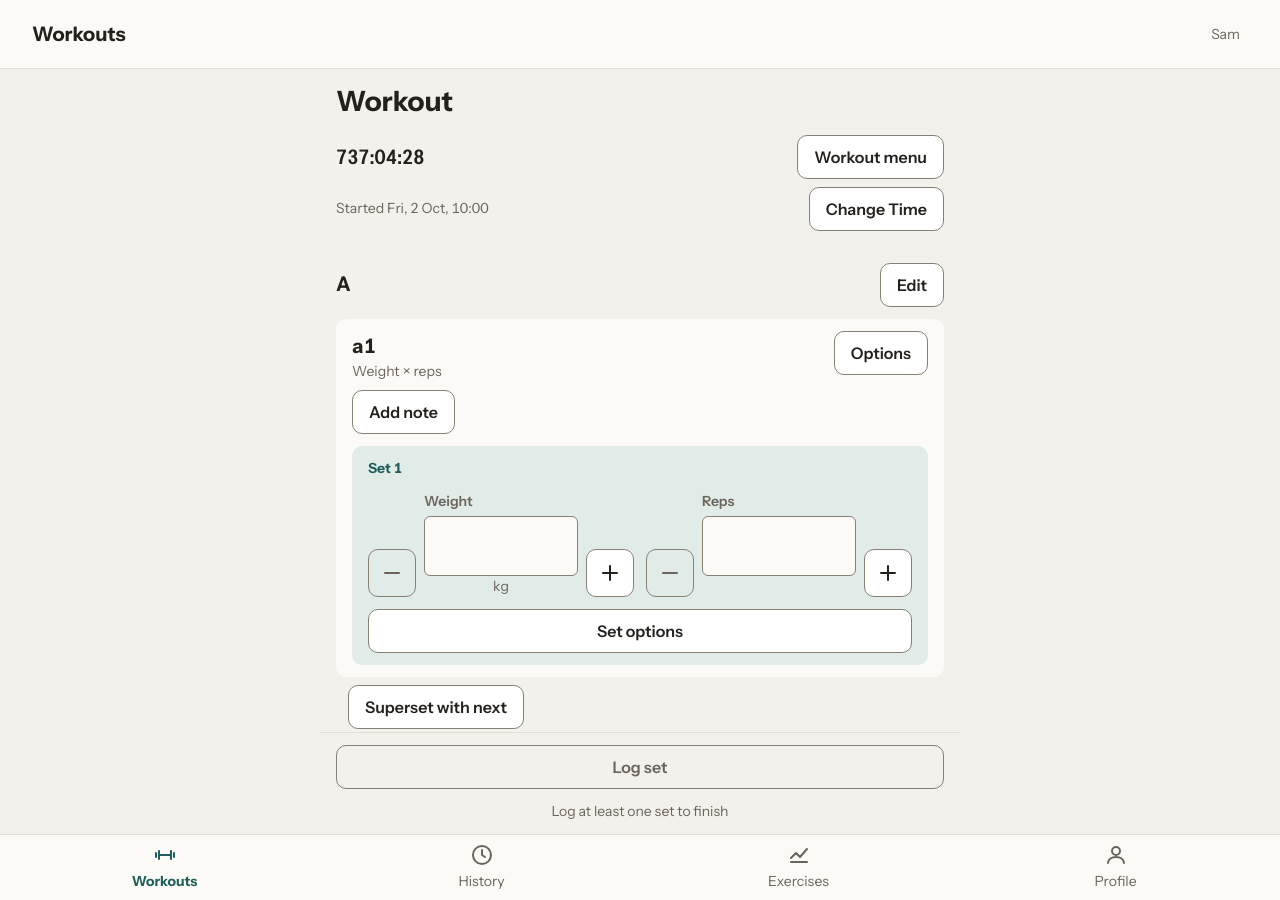
Scenario: 10.3 AC26 — moves and links stay inside a section › Move up / Move down are disabled (not hidden) at a segment's edges, with the reason in text
Expected: the heading "Workout" is shown, [336,84,453,118]
Click the button with aria-label "Options for " at (881, 353), box [834,331,928,375]
(page scrolled)
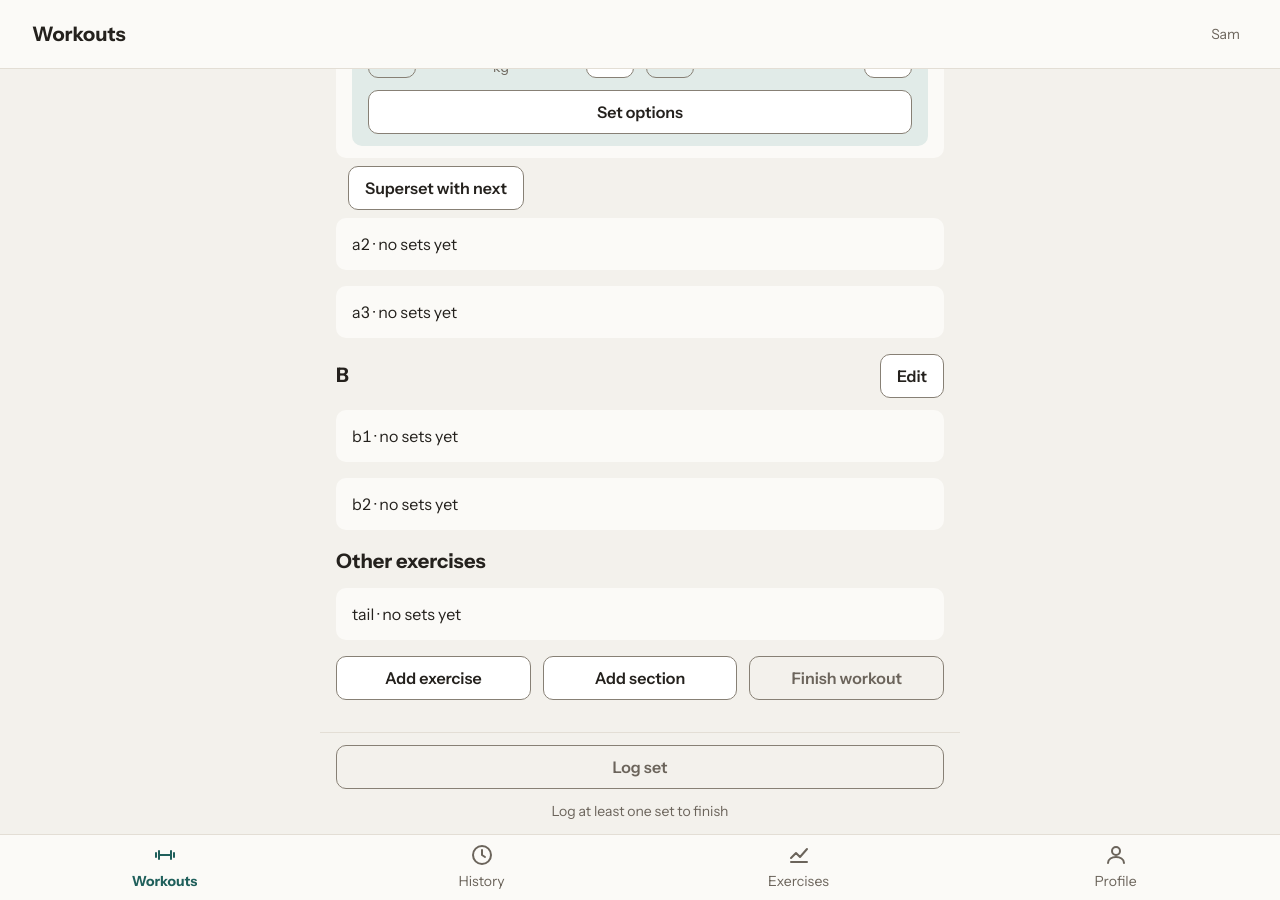
Click the button "b2 · no sets yet" at (405, 504), box [352,482,928,526]
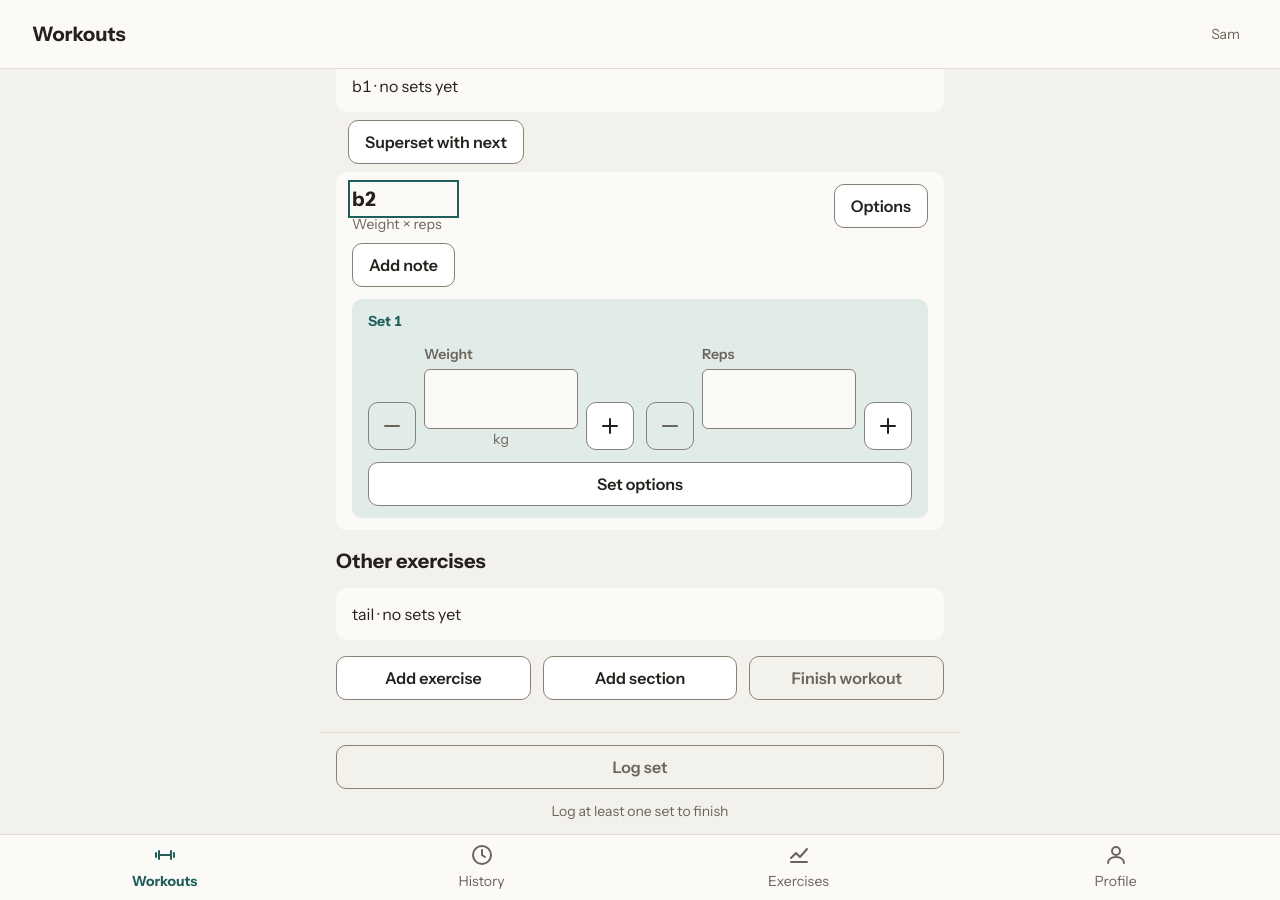
Click the button with aria-label "Options for " at (881, 206), box [834,184,928,228]
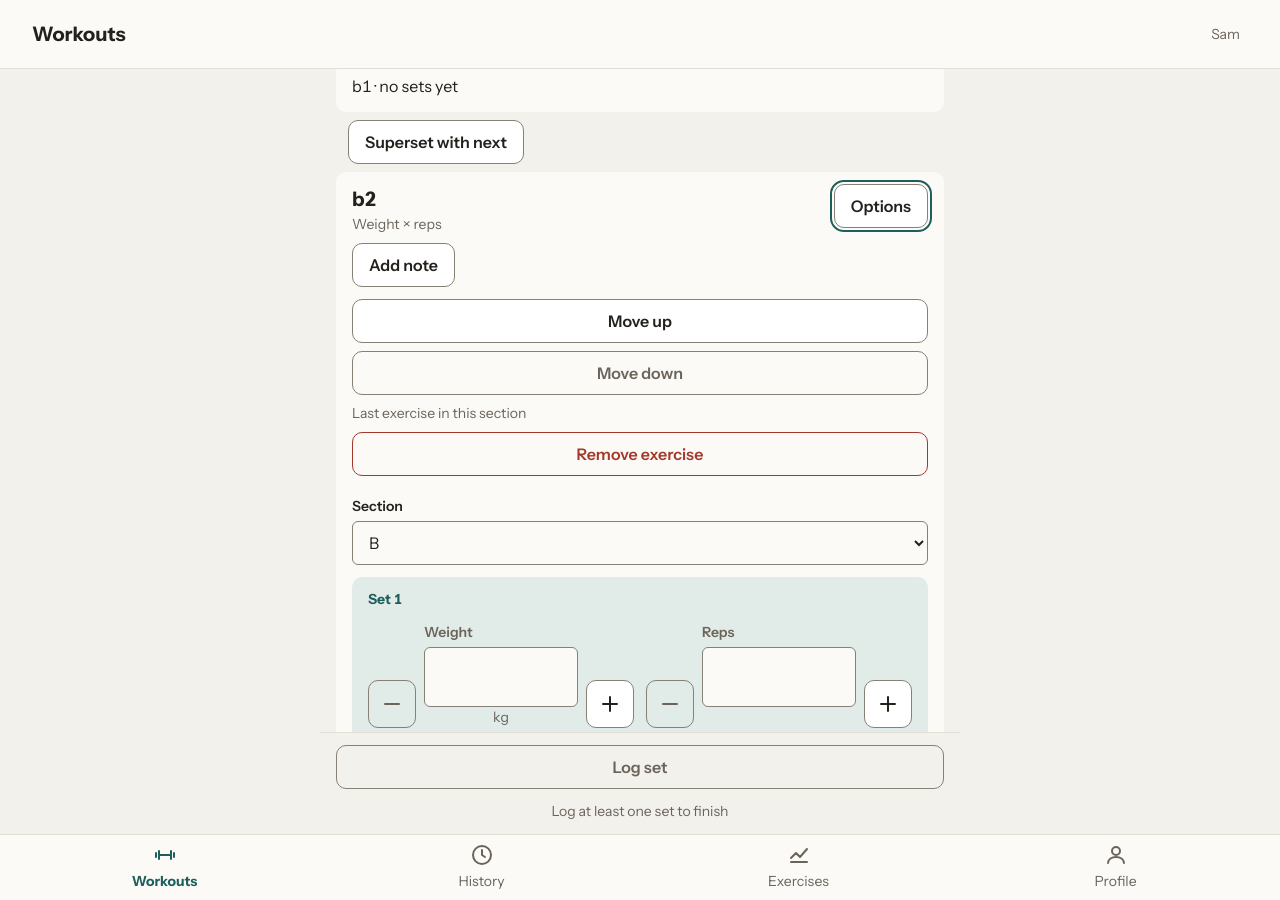
Expected: the button "Move down" is disabled, [352,351,928,395]
